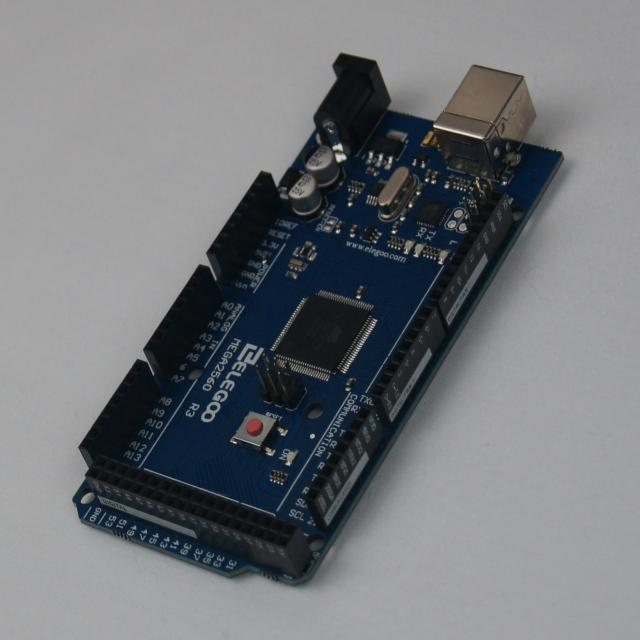Arduino Mega 2560 -Blue-: (74, 55, 562, 585)
